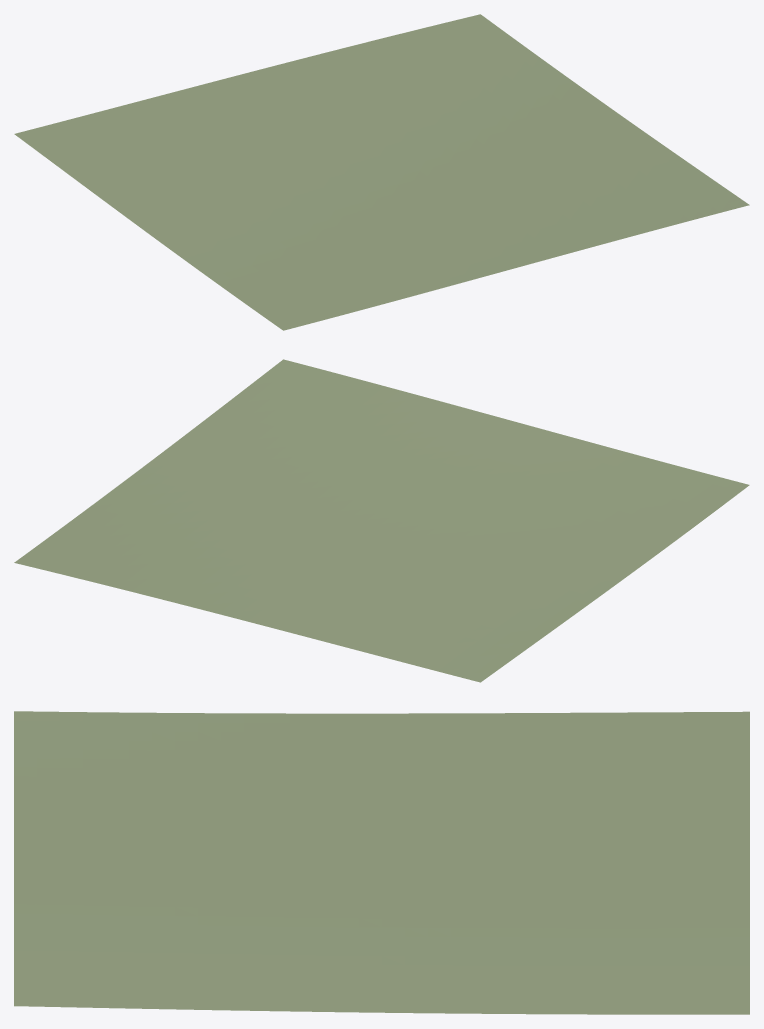
File: expanse-16-26.glb
The picture shows the model from 3 angles, top to bottom: view 1: azimuth 30°, elevation 25°; view 2: azimuth 150°, elevation 25°; view 3: azimuth 270°, elevation 25°; orthographic projection. The views are drawn at different scales.
Parts seen in each view (by area): view 1: expanse-16-26; view 2: expanse-16-26; view 3: expanse-16-26.
Boxes of the visible parts, box(x1,y1,x2,y2) form: expanse-16-26: box(14, 14, 749, 330); expanse-16-26: box(14, 359, 749, 682); expanse-16-26: box(14, 711, 749, 1014).
Size of the model in its own units: 256 by 7.07 by 256.
